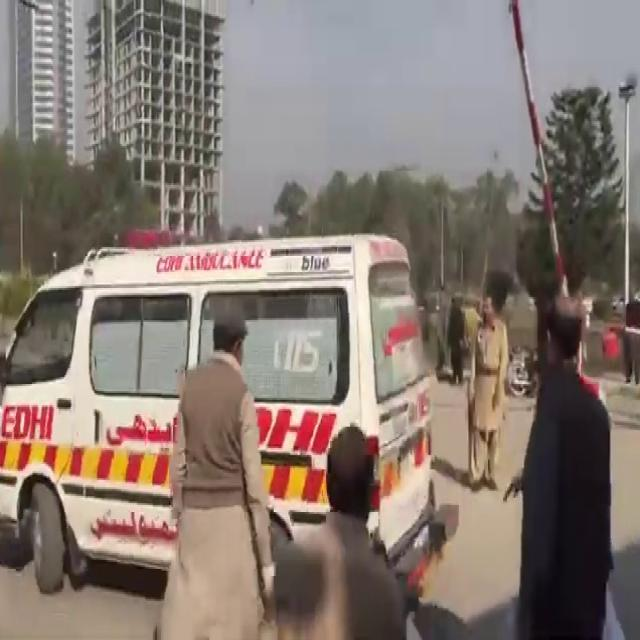ambulance: (9, 250, 412, 593)
